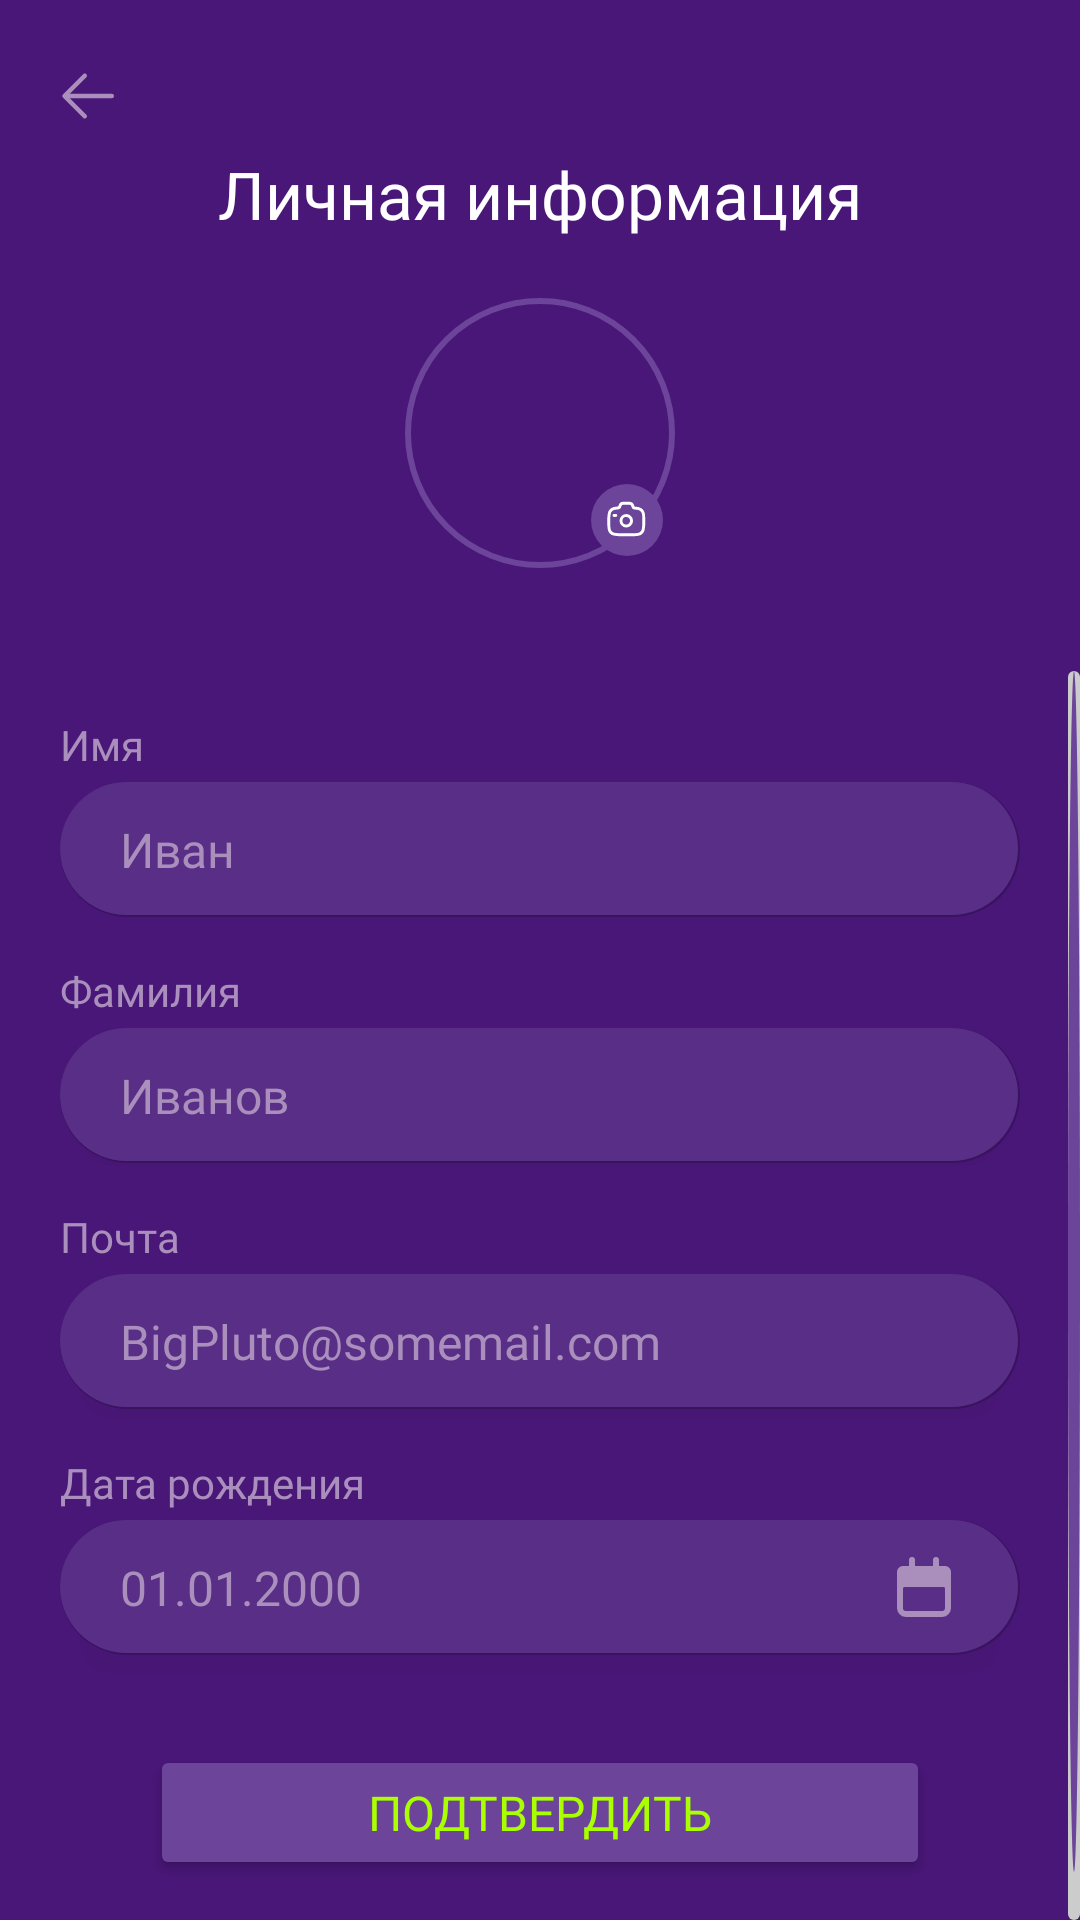

Named icons in this screenshot (1080px×1920px) and their centers, point (x, y):
back: point (88, 96)
camera: point (627, 520)
